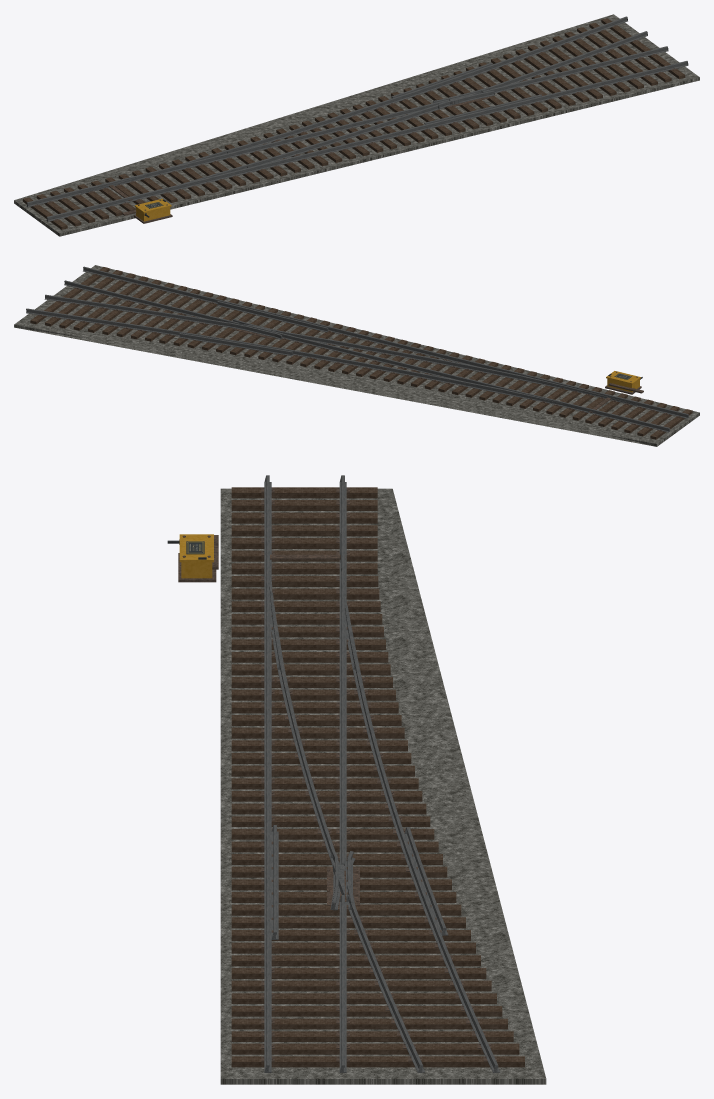
Rendered from PROJECT_Z_Railway_RightHand_Turnout_28m_COMPLETE.glb.
The picture shows the model from 3 angles, top to bottom: view 1: azimuth 30°, elevation 25°; view 2: azimuth 150°, elevation 25°; view 3: azimuth 270°, elevation 25°; orthographic projection. The views are drawn at different scales.
Visible parts, largest first — view 1: RENDER_00_Track_Ballast_Wedge_28m, RENDER_20_Main_Left_Continuous_Rail, RENDER_23_Diverging_Outer_Rail_RightHand, RENDER_21_Main_Right_Stock_Rail_Before_Frog, RENDER_11_Steel_Rail_Seat_Plates, RENDER_24_Diverging_Inner_Rail_To_Frog, RENDER_22_Main_Right_Stock_Rail_After_Frog, RENDER_25_Diverging_Inner_Rail_After_Frog, RENDER_10_Timber_Sleeper_046, RENDER_10_Timber_Sleeper_045, RENDER_10_Timber_Sleeper_044, RENDER_10_Timber_Sleeper_043 (+10 smaller); view 2: RENDER_00_Track_Ballast_Wedge_28m, RENDER_20_Main_Left_Continuous_Rail, RENDER_23_Diverging_Outer_Rail_RightHand, RENDER_21_Main_Right_Stock_Rail_Before_Frog, RENDER_24_Diverging_Inner_Rail_To_Frog, RENDER_25_Diverging_Inner_Rail_After_Frog, RENDER_22_Main_Right_Stock_Rail_After_Frog, RENDER_11_Steel_Rail_Seat_Plates, RENDER_43_Mainline_Check_Rail, RENDER_44_Diverging_Check_Rail, ANIM_30_Switch_Blade_Left_Heel_Pivot, RENDER_10_Timber_Sleeper_046 (+19 smaller); view 3: RENDER_00_Track_Ballast_Wedge_28m, RENDER_11_Steel_Rail_Seat_Plates, RENDER_20_Main_Left_Continuous_Rail, RENDER_23_Diverging_Outer_Rail_RightHand, RENDER_10_Timber_Sleeper_046, RENDER_21_Main_Right_Stock_Rail_Before_Frog, RENDER_10_Timber_Sleeper_045, RENDER_10_Timber_Sleeper_043, RENDER_10_Timber_Sleeper_044, RENDER_10_Timber_Sleeper_040, RENDER_10_Timber_Sleeper_042, RENDER_10_Timber_Sleeper_038 (+43 smaller).
Part boxes in pixels (x1=…): RENDER_00_Track_Ballast_Wedge_28m: x1=14, y1=14, x2=699, y2=236; RENDER_20_Main_Left_Continuous_Rail: x1=46, y1=61, x2=688, y2=221; RENDER_23_Diverging_Outer_Rail_RightHand: x1=227, y1=16, x2=627, y2=153; RENDER_21_Main_Right_Stock_Rail_Before_Frog: x1=26, y1=99, x2=449, y2=207; RENDER_11_Steel_Rail_Seat_Plates: x1=34, y1=25, x2=676, y2=221; RENDER_24_Diverging_Inner_Rail_To_Frog: x1=247, y1=102, x2=450, y2=167; RENDER_22_Main_Right_Stock_Rail_After_Frog: x1=482, y1=46, x2=668, y2=93; RENDER_25_Diverging_Inner_Rail_After_Frog: x1=481, y1=31, x2=647, y2=91; RENDER_10_Timber_Sleeper_046: x1=601, y1=18, x2=685, y2=79; RENDER_10_Timber_Sleeper_045: x1=589, y1=22, x2=671, y2=82; RENDER_10_Timber_Sleeper_044: x1=577, y1=27, x2=657, y2=85; RENDER_10_Timber_Sleeper_043: x1=564, y1=31, x2=643, y2=89; RENDER_00_Track_Ballast_Wedge_28m: x1=14, y1=265, x2=699, y2=446; RENDER_20_Main_Left_Continuous_Rail: x1=83, y1=266, x2=688, y2=418; RENDER_23_Diverging_Outer_Rail_RightHand: x1=26, y1=308, x2=473, y2=387; RENDER_21_Main_Right_Stock_Rail_Before_Frog: x1=271, y1=331, x2=670, y2=432; RENDER_24_Diverging_Inner_Rail_To_Frog: x1=272, y1=330, x2=492, y2=374; RENDER_25_Diverging_Inner_Rail_After_Frog: x1=44, y1=294, x2=232, y2=327; RENDER_22_Main_Right_Stock_Rail_After_Frog: x1=64, y1=280, x2=239, y2=324; RENDER_11_Steel_Rail_Seat_Plates: x1=38, y1=274, x2=681, y2=431; RENDER_43_Mainline_Check_Rail: x1=217, y1=301, x2=328, y2=332; RENDER_44_Diverging_Check_Rail: x1=179, y1=333, x2=292, y2=356; ANIM_30_Switch_Blade_Left_Heel_Pivot: x1=492, y1=369, x2=636, y2=405; RENDER_10_Timber_Sleeper_046: x1=30, y1=267, x2=109, y2=324; RENDER_00_Track_Ballast_Wedge_28m: x1=220, y1=488, x2=546, y2=1084; RENDER_11_Steel_Rail_Seat_Plates: x1=261, y1=487, x2=496, y2=1061; RENDER_20_Main_Left_Continuous_Rail: x1=264, y1=475, x2=271, y2=1072; RENDER_23_Diverging_Outer_Rail_RightHand: x1=353, y1=662, x2=500, y2=1073; RENDER_10_Timber_Sleeper_046: x1=231, y1=1056, x2=524, y2=1067; RENDER_21_Main_Right_Stock_Rail_Before_Frog: x1=339, y1=475, x2=346, y2=870; RENDER_10_Timber_Sleeper_045: x1=231, y1=1043, x2=519, y2=1054; RENDER_10_Timber_Sleeper_043: x1=231, y1=1018, x2=507, y2=1029; RENDER_10_Timber_Sleeper_044: x1=231, y1=1031, x2=513, y2=1041; RENDER_10_Timber_Sleeper_040: x1=231, y1=980, x2=491, y2=991; RENDER_10_Timber_Sleeper_042: x1=231, y1=1006, x2=502, y2=1016; RENDER_10_Timber_Sleeper_038: x1=231, y1=955, x2=480, y2=966.
Size of the model in its own units: 28.01 by 0.645 by 7.6.
7 materials, 7 textured.
